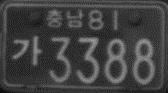1: (112, 9, 119, 30)
3: (75, 36, 100, 85), (49, 35, 71, 84)
8: (132, 37, 155, 85), (104, 37, 127, 84), (87, 8, 104, 32)
가: (12, 34, 42, 66)
충남_O: (45, 6, 84, 29)
